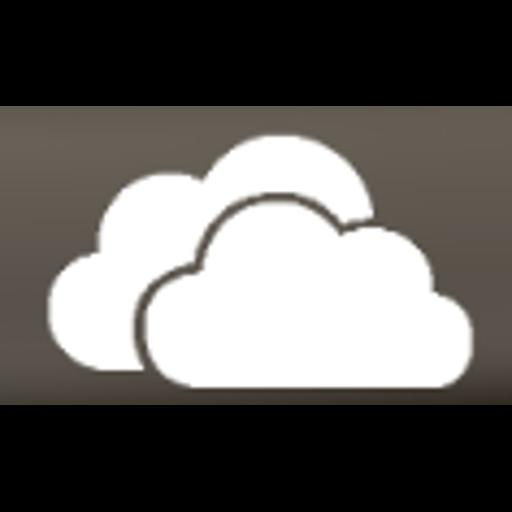Outlook: (0, 106, 512, 405)
